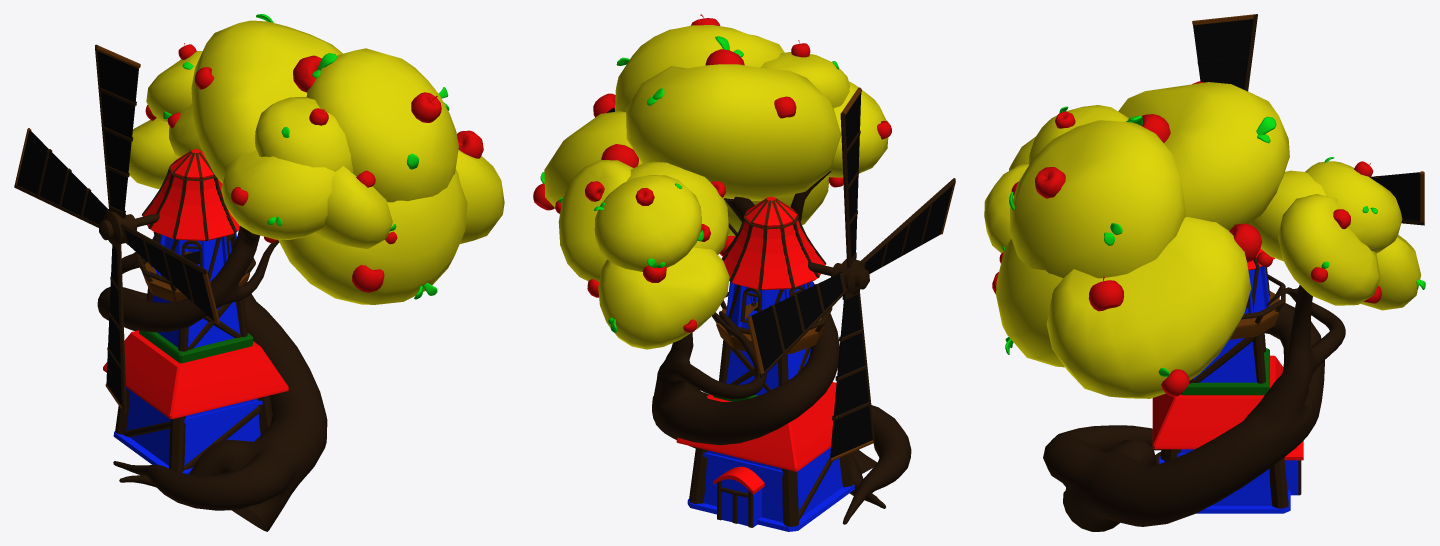
The model's file is WINDMILL NEW 1.fbx.
The picture shows the model from 3 angles, left to right: view 1: azimuth 30°, elevation 25°; view 2: azimuth 150°, elevation 25°; view 3: azimuth 270°, elevation 25°; orthographic projection. The views are drawn at different scales.
Parts seen in each view (by area): view 1: Tree_windmill, Windmill1, Windmill_rotating_part; view 2: Tree_windmill, Windmill1, Windmill_rotating_part; view 3: Tree_windmill, Windmill1, Windmill_rotating_part.
Part boxes in pixels (box(x1,y1,x2,y2)): Tree_windmill: box(97, 14, 504, 531); Windmill1: box(103, 149, 288, 474); Windmill_rotating_part: box(14, 44, 219, 413); Tree_windmill: box(533, 14, 911, 524); Windmill1: box(676, 196, 854, 531); Windmill_rotating_part: box(746, 87, 955, 462); Tree_windmill: box(984, 81, 1425, 531); Windmill1: box(1152, 248, 1303, 513); Windmill_rotating_part: box(1192, 14, 1424, 225).
Size of the model in its own units: 35.57 by 43.32 by 36.71.
